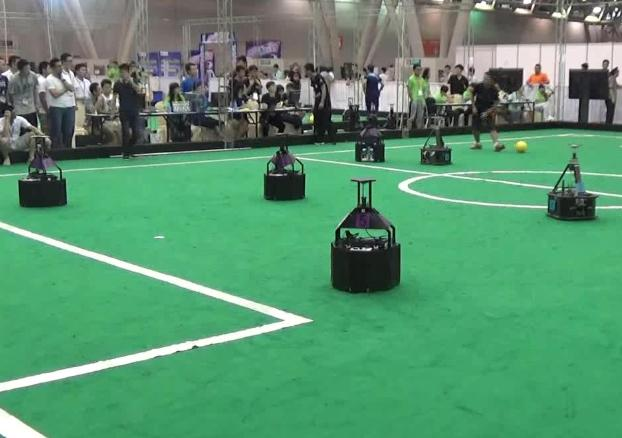robot: (326, 175, 401, 293), (542, 141, 599, 223), (13, 130, 71, 209), (261, 132, 307, 203), (352, 113, 390, 163), (419, 115, 453, 168)
